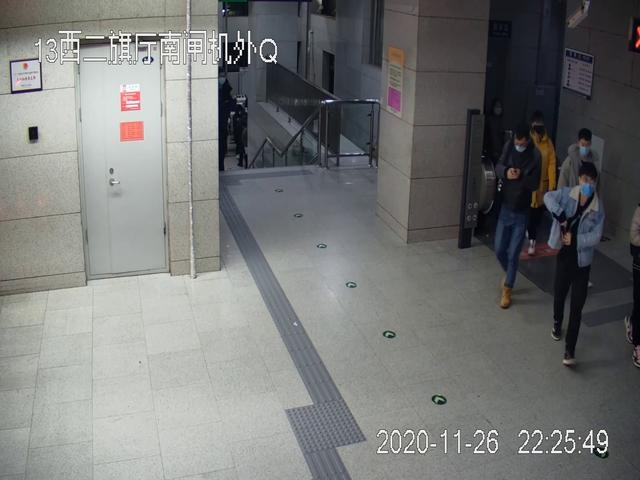person: (543, 164, 603, 365), (492, 121, 542, 309)
